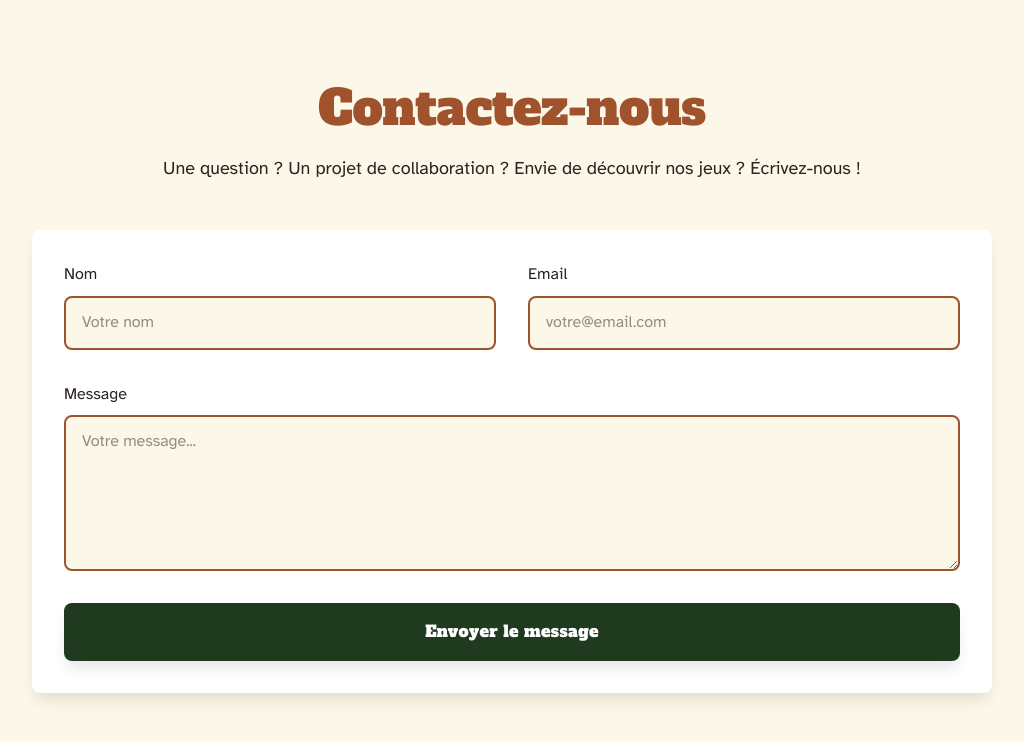
Test: Formulaire de contact › formulaire valide : le message de succès s'affiche et les erreurs disparaissent
Type "Jeanne Tremblay" into the field labelled "Nom" at (280, 323), box [64,296,496,350]
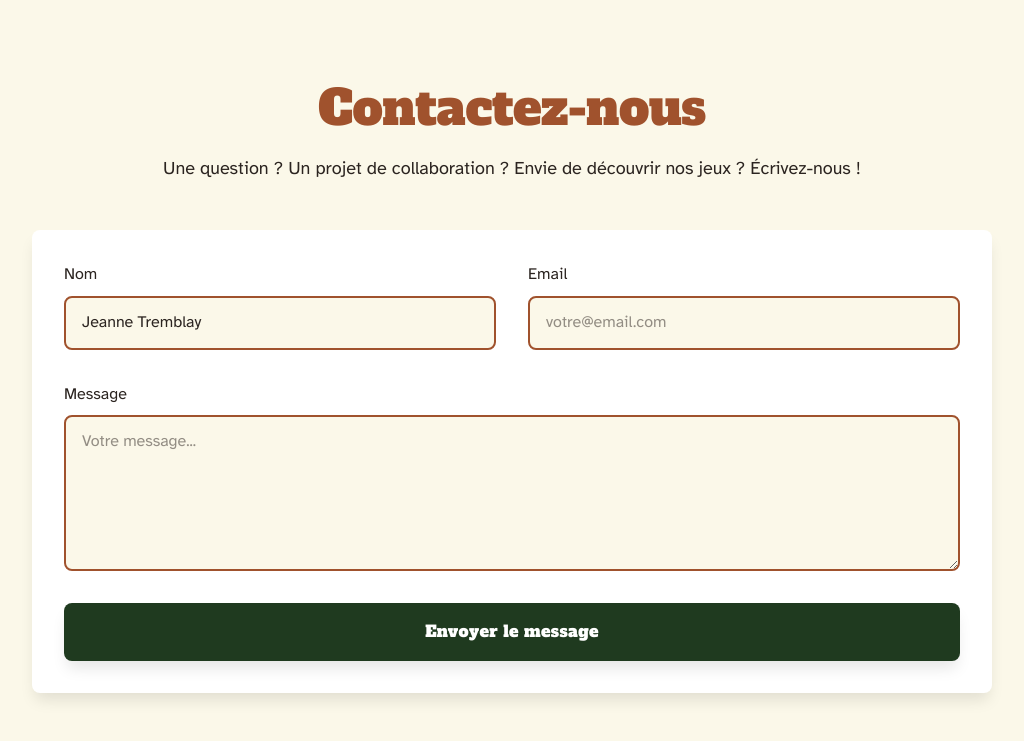
Type "jeanne@example.com" into the field labelled "Email" at (744, 323), box [528,296,960,350]
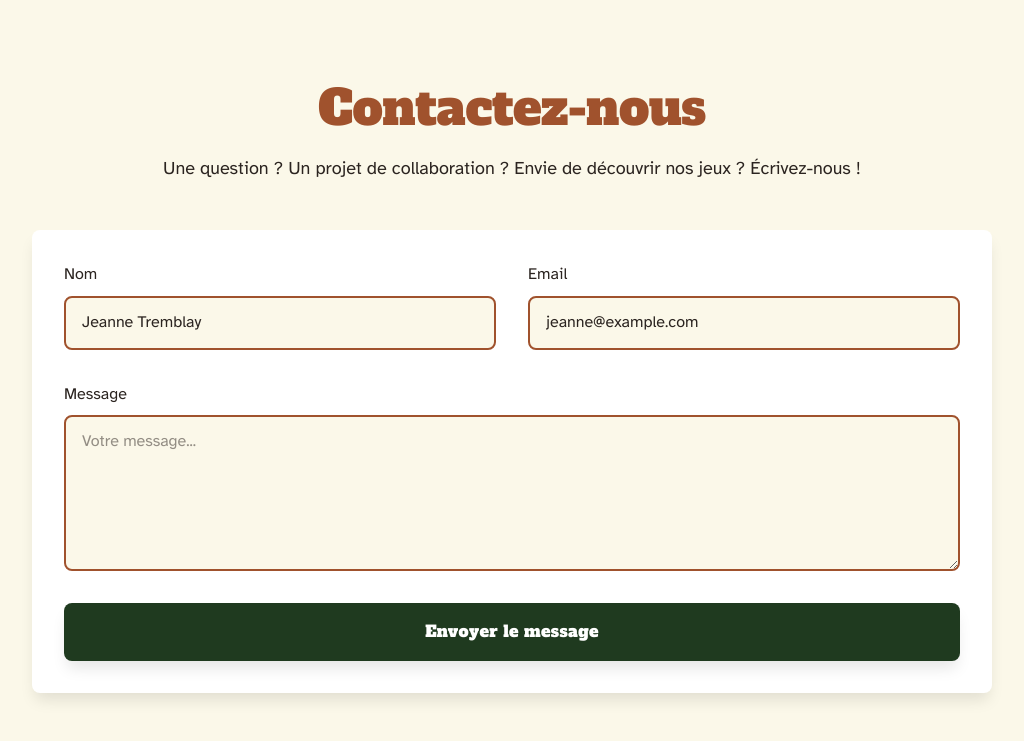
Type "Bonjour, j'aimerais découvrir vos jeux." into the text box labelled "Message" at (512, 493), box [64,415,960,571]
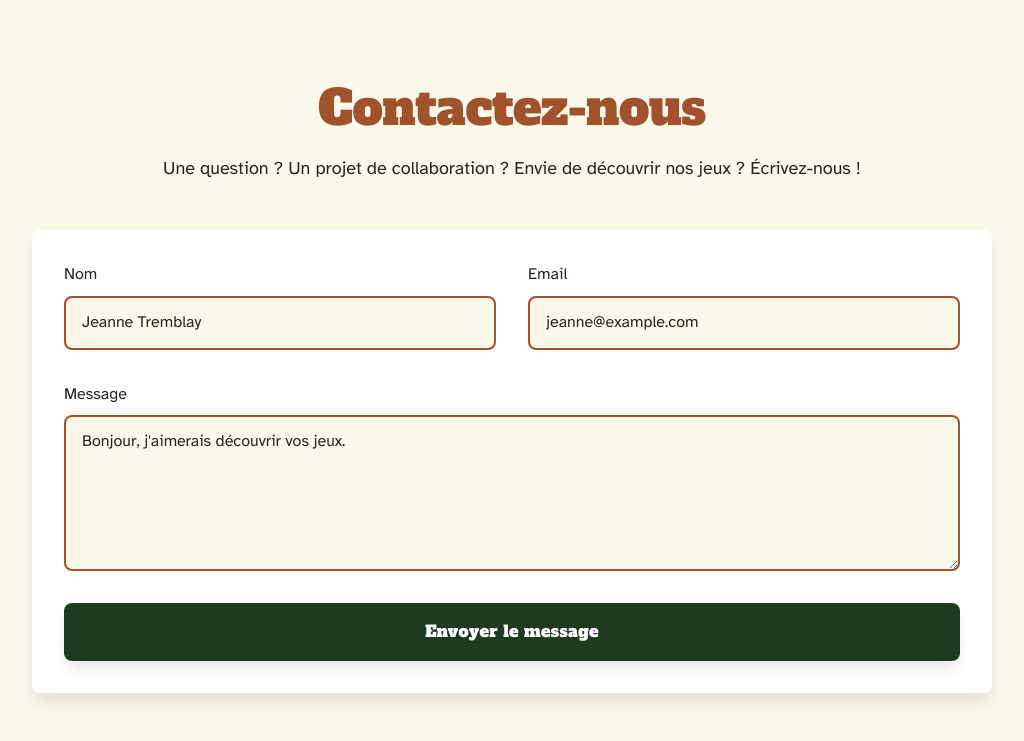
Click the button "Envoyer le message" at (512, 632), box [64,603,960,661]
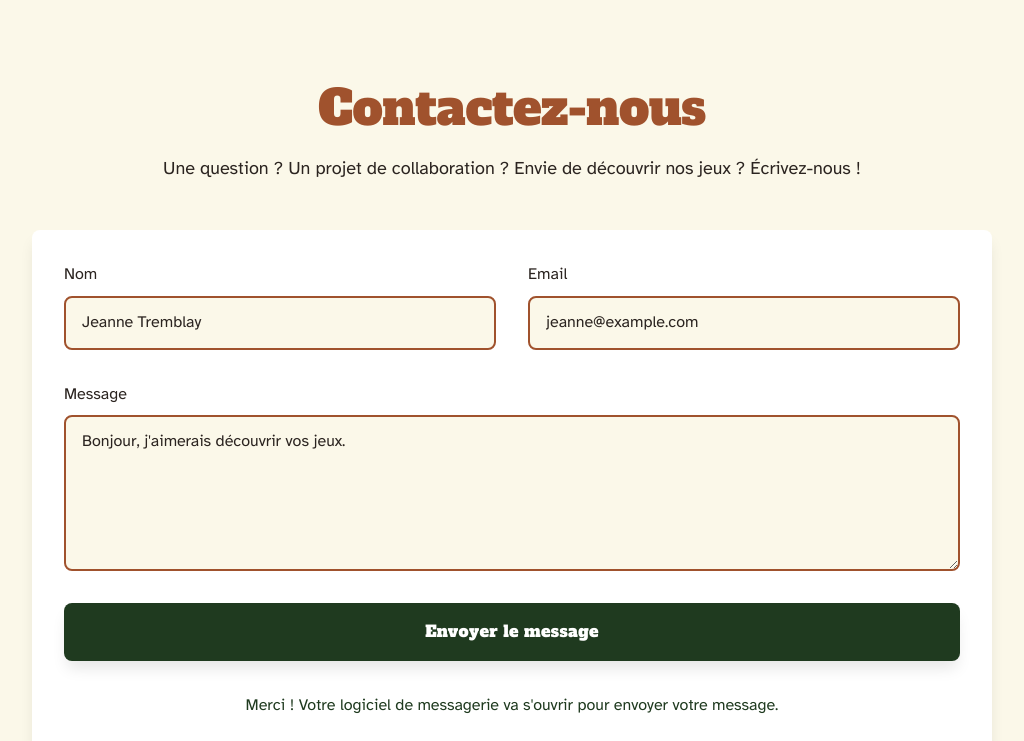
Expected: the message reads "Merci ! Votre logiciel de messagerie va s'ouvrir pour envoyer votre message.", [246,695,778,715]
